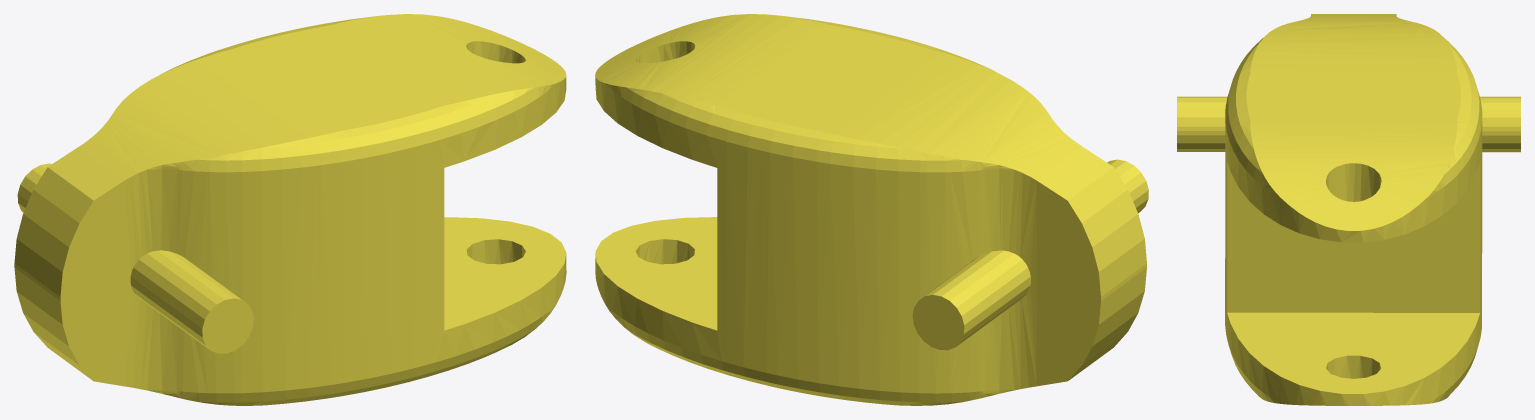
File: tool pitch link.OBJ
3 renders of one model, left to right at view 1: azimuth 30°, elevation 25°; view 2: azimuth 150°, elevation 25°; view 3: azimuth 270°, elevation 25°, orthographic. The views are drawn at different scales.
Visible parts, largest first — view 1: psm2/tool_pitch_link_Tool_Pitch_Link.001; view 2: psm2/tool_pitch_link_Tool_Pitch_Link.001; view 3: psm2/tool_pitch_link_Tool_Pitch_Link.001.
Part boxes in pixels (x1,y1,x2,y2): psm2/tool_pitch_link_Tool_Pitch_Link.001: (14, 14, 566, 405); psm2/tool_pitch_link_Tool_Pitch_Link.001: (595, 14, 1148, 405); psm2/tool_pitch_link_Tool_Pitch_Link.001: (1177, 14, 1520, 405).
Bounding box in the file's own units: 0.013 × 0.0063 × 0.00802.
